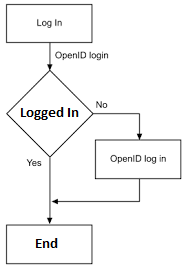arrow: (51, 176, 141, 205), (91, 112, 144, 142), (45, 154, 56, 225), (45, 41, 57, 72)
decision: (5, 68, 95, 160)
process: (4, 222, 94, 265), (4, 3, 95, 45)
text: (93, 138, 184, 180), (19, 106, 80, 121), (109, 153, 168, 165), (53, 50, 110, 62), (35, 17, 66, 29), (36, 237, 59, 249), (25, 157, 45, 167), (94, 100, 108, 109)
